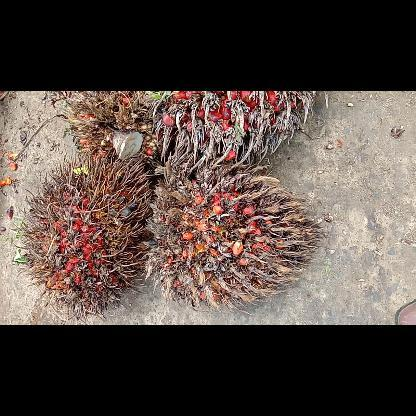Terlalu masak: (141, 160, 325, 316), (13, 150, 158, 324), (148, 90, 314, 180), (60, 90, 171, 168)
